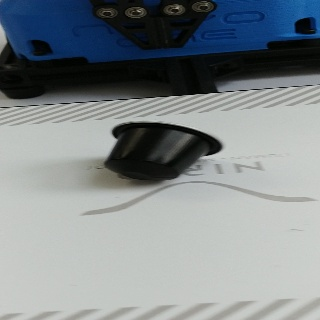capsule_10: (103, 120, 225, 182)
